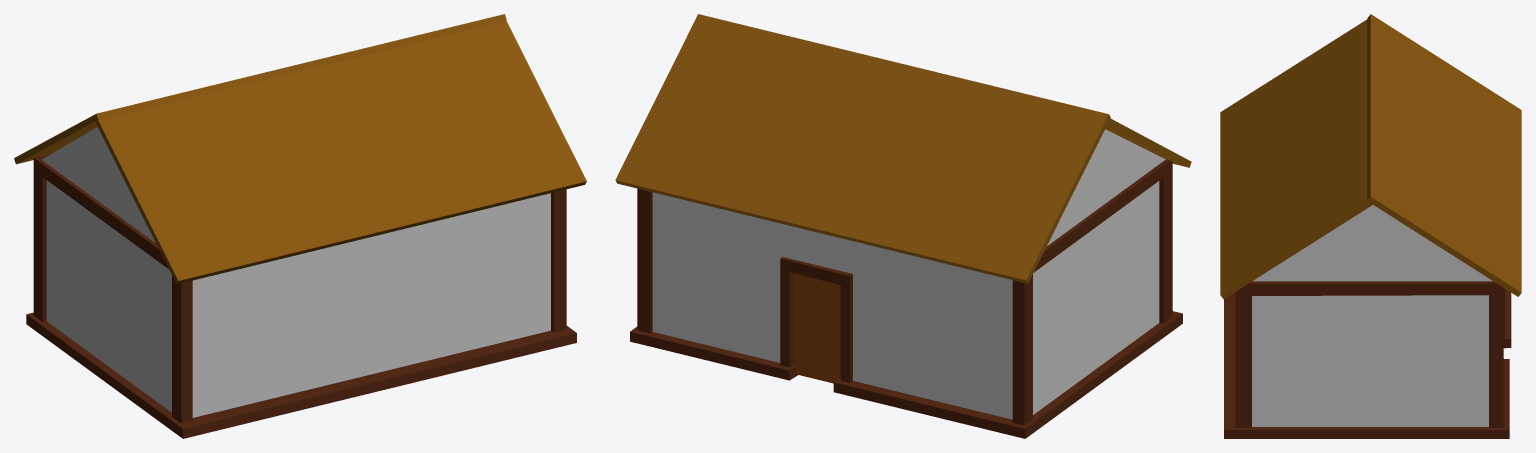
Rendered from House.fbx.
The picture shows the model from 3 angles, left to right: view 1: azimuth 30°, elevation 25°; view 2: azimuth 150°, elevation 25°; view 3: azimuth 270°, elevation 25°; orthographic projection. The views are drawn at different scales.
Visible parts, largest first — view 1: Plane.007, Plane.004, Cube.004; view 2: Plane.007, Plane.004, Cube.004, Plane; view 3: Plane.007, Plane.004, Cube.004.
Part boxes in pixels (left/top/right/bottom): Plane.007: left=14, top=14, right=586, bottom=284; Plane.004: left=42, top=127, right=550, bottom=417; Cube.004: left=26, top=153, right=576, bottom=438; Plane.007: left=615, top=14, right=1191, bottom=283; Plane.004: left=652, top=129, right=1165, bottom=419; Cube.004: left=630, top=159, right=1182, bottom=438; Plane: left=793, top=273, right=840, bottom=383; Plane.007: left=1220, top=14, right=1521, bottom=299; Plane.004: left=1252, top=205, right=1492, bottom=426; Cube.004: left=1224, top=281, right=1511, bottom=438.
Size of the model in its own units: 1348 by 846 by 941.
